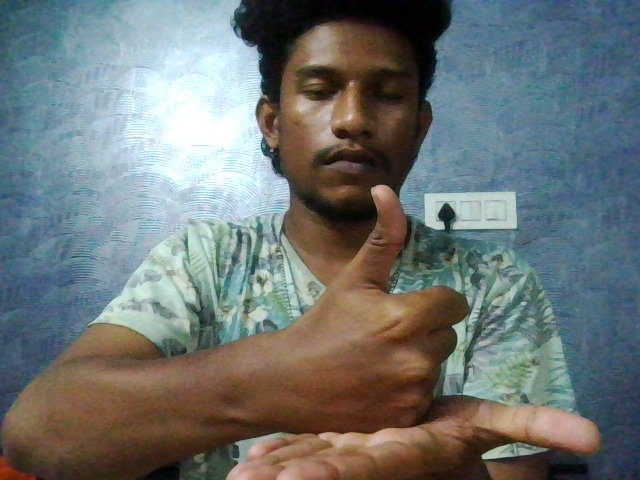help: (172, 180, 640, 471)
